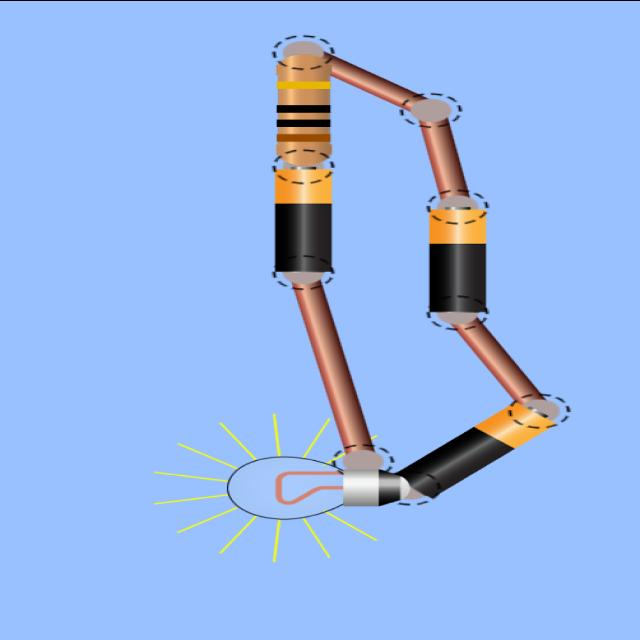Battery: (398, 401, 554, 498), (429, 209, 486, 312), (275, 169, 331, 271)
Light Bulb: (227, 455, 409, 519)
Resistor: (275, 54, 331, 164)
Wire: (295, 280, 372, 454), (456, 319, 541, 402), (324, 54, 424, 109), (421, 118, 468, 197)
